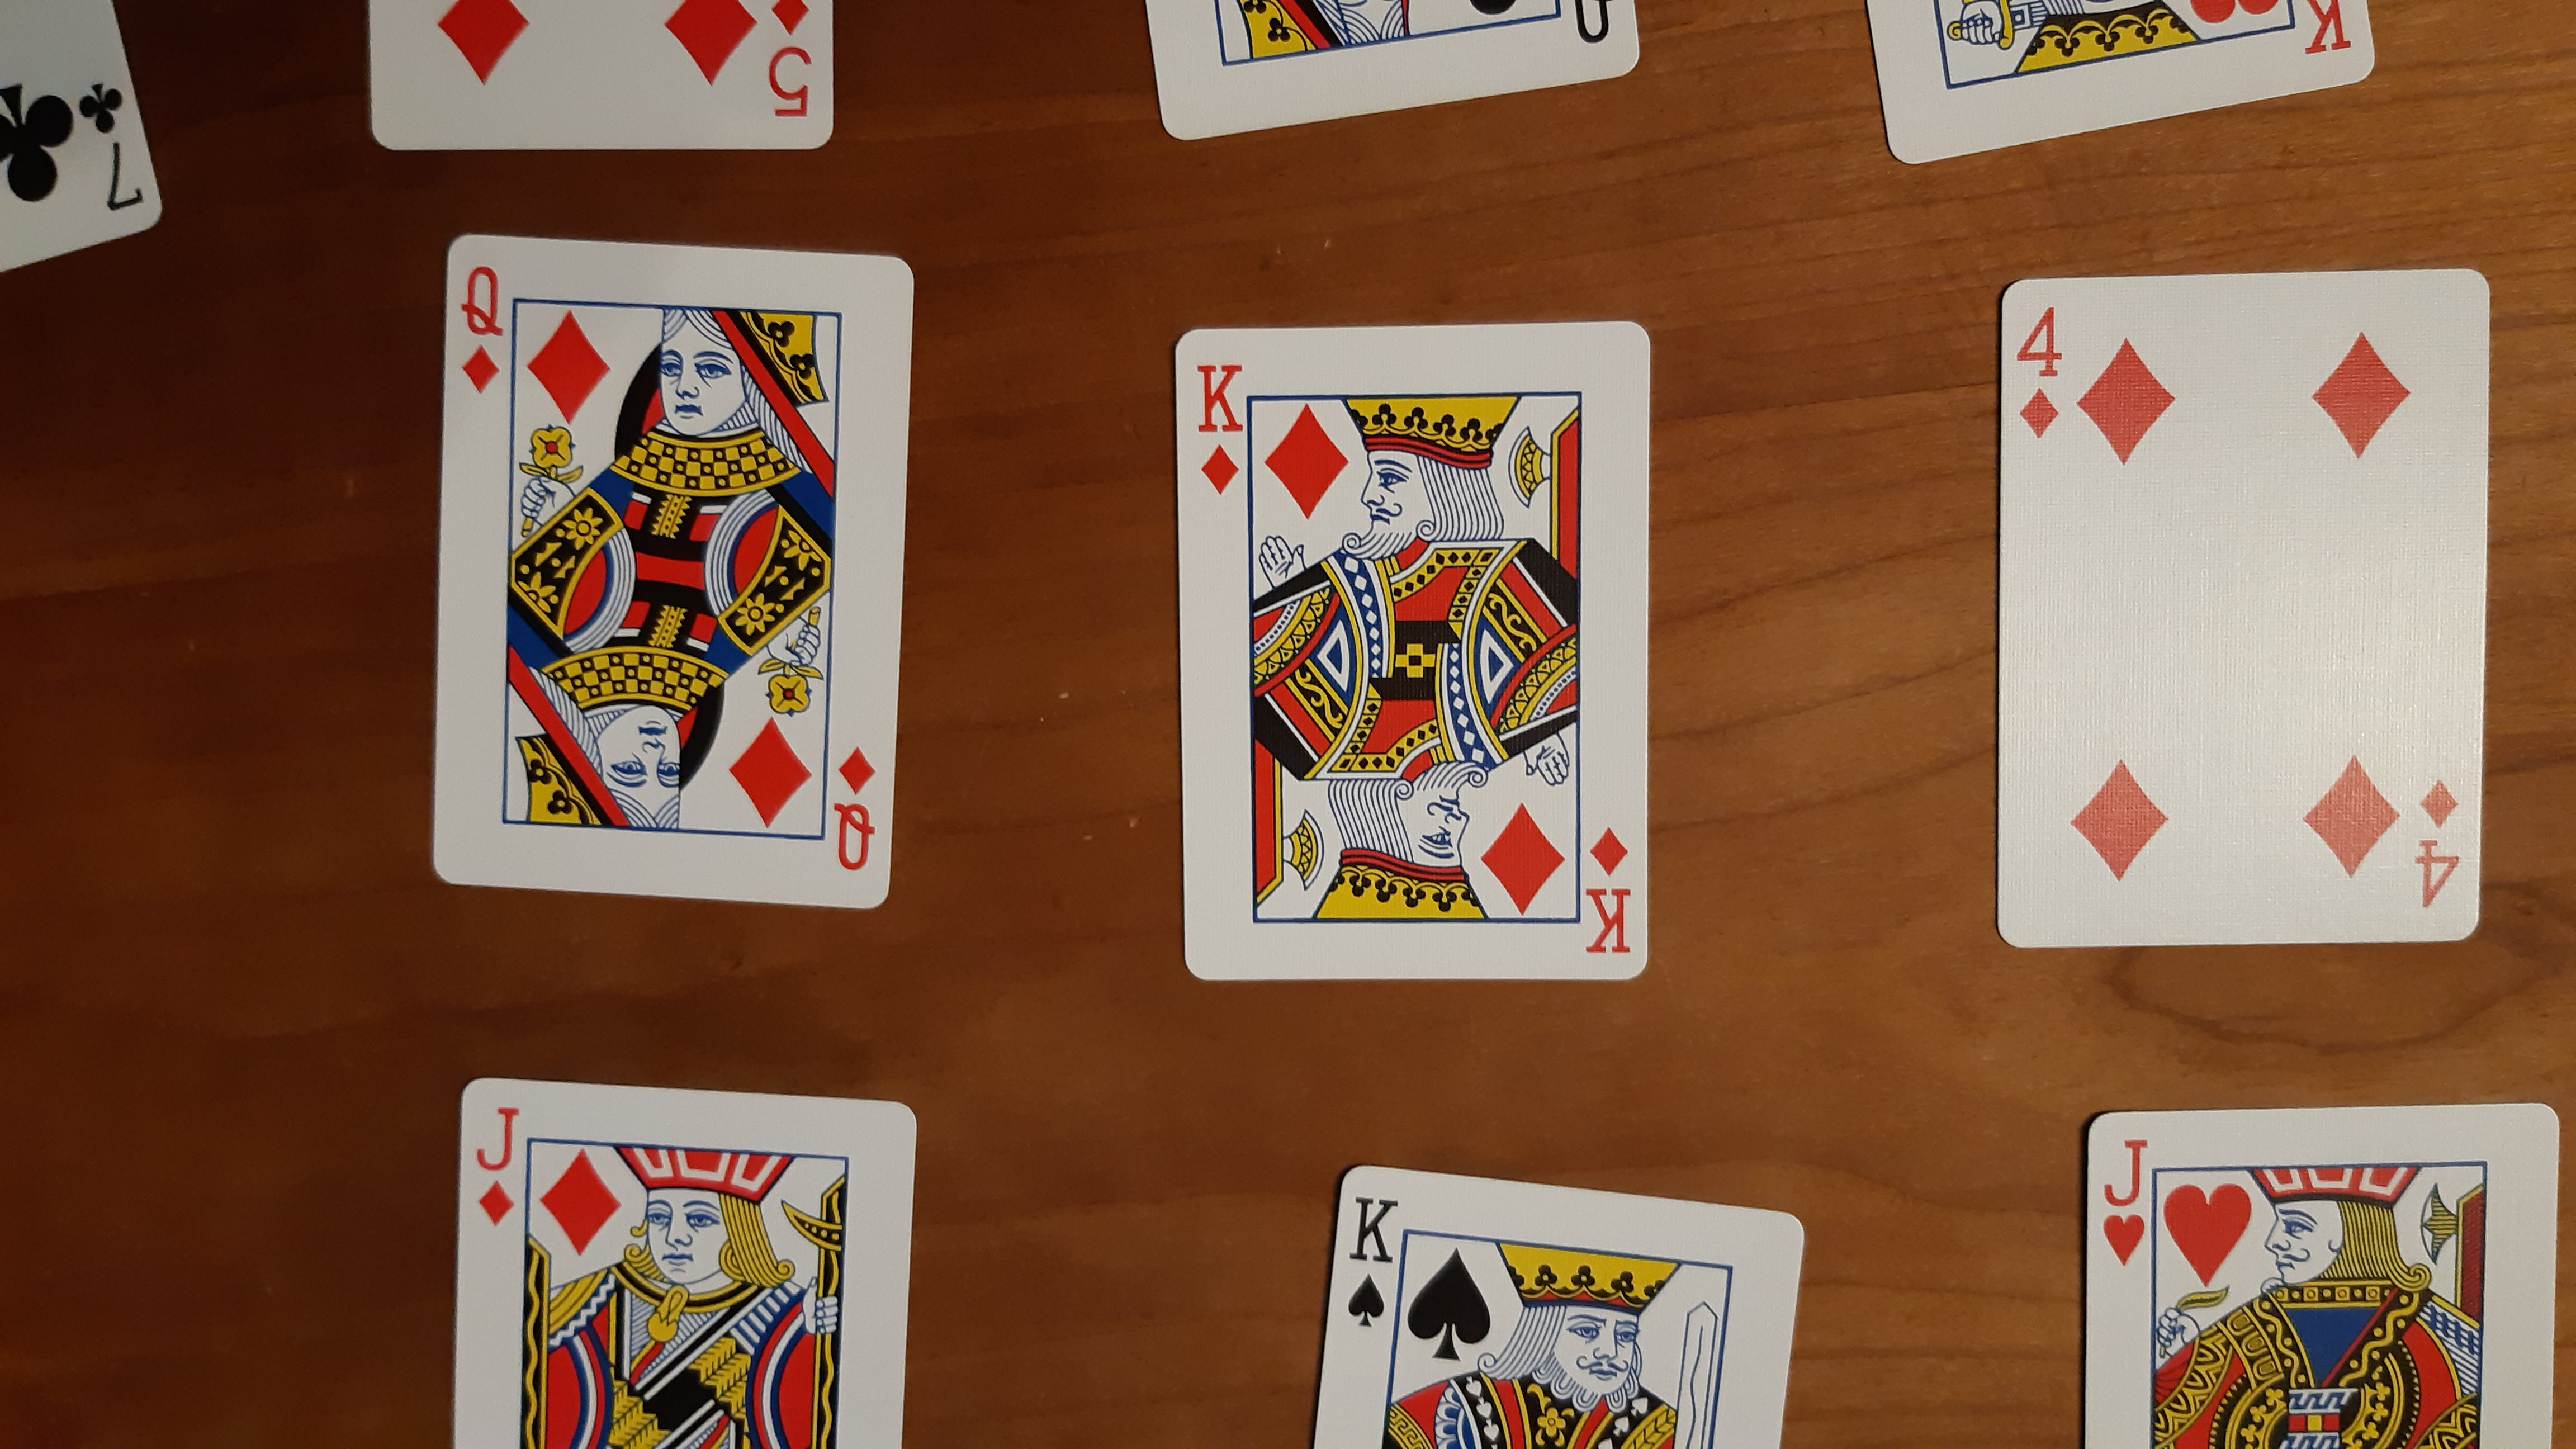Black_Spade_King: (1338, 1187, 1399, 1330)
Red_Diamond_4: (2008, 295, 2070, 442), (2406, 773, 2468, 916)
Red_Diamond_5: (768, 4, 824, 122)
Red_Diamond_Jack: (464, 1097, 525, 1230)
Red_Diamond_King: (1184, 349, 1249, 499), (1576, 817, 1637, 962)
Red_Diamond_Queen: (824, 741, 885, 879), (449, 257, 510, 395)
Red_Heart_Jack: (2095, 1132, 2151, 1272)
